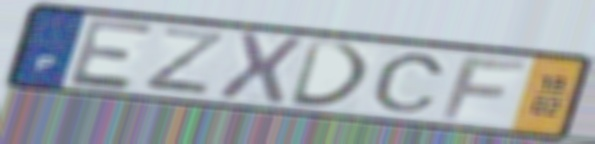C: (369, 51, 450, 114)
D: (285, 37, 374, 110)
E: (66, 15, 160, 93)
F: (437, 55, 531, 122)
X: (213, 29, 308, 106)
Z: (140, 25, 229, 98)
